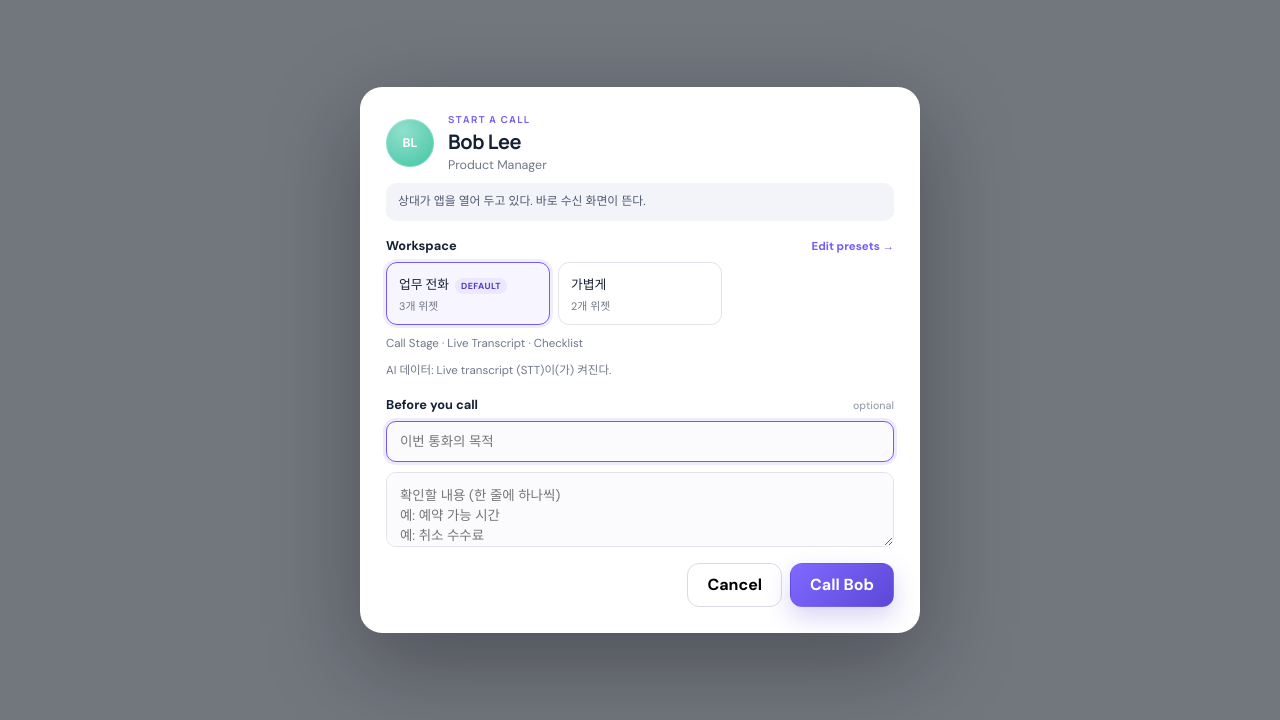
Test case: pre-call sheet › does not ask for a checklist when the chosen preset has none
The width and height of the screenshot is (1280, 720).
Click the radio button labelled "가볍게 2개 위젯" at coordinates (640, 294), box [558,262,722,325]
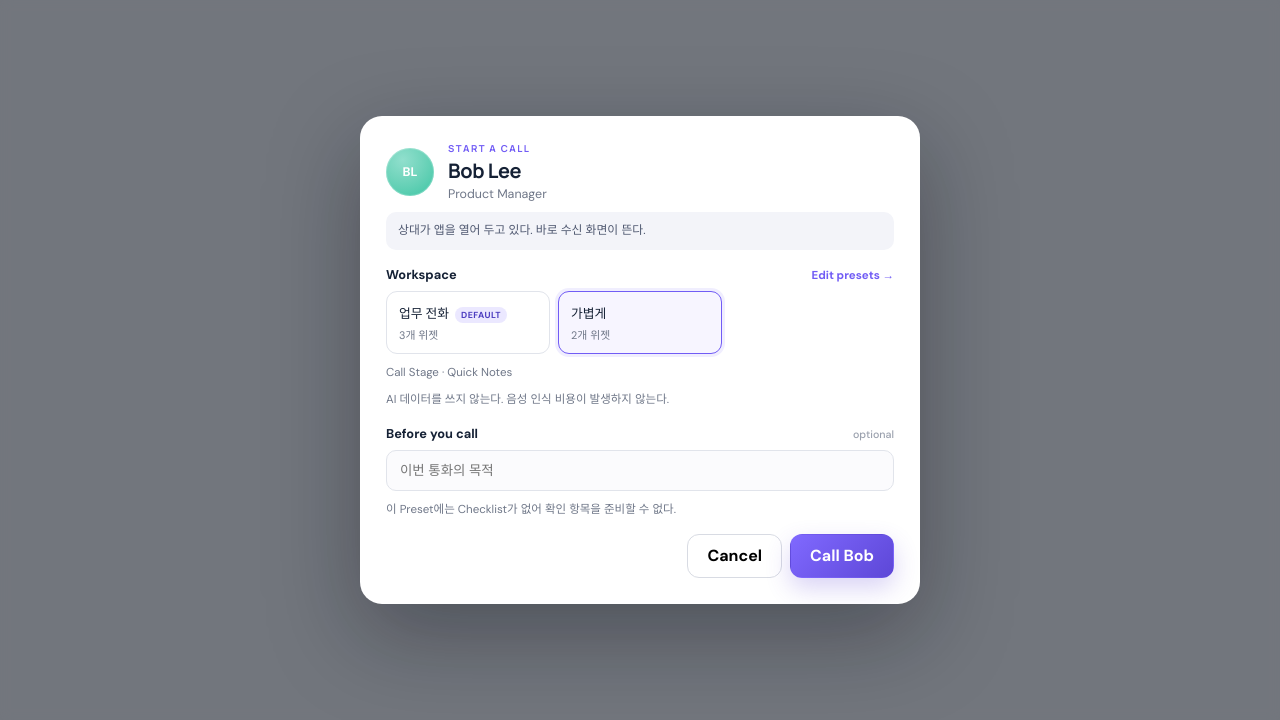
Now the text "AI 데이터를 쓰지 않는다. 음성 인식 비용이 발생하지 않는다." is shown, box [386,392,669,407]
